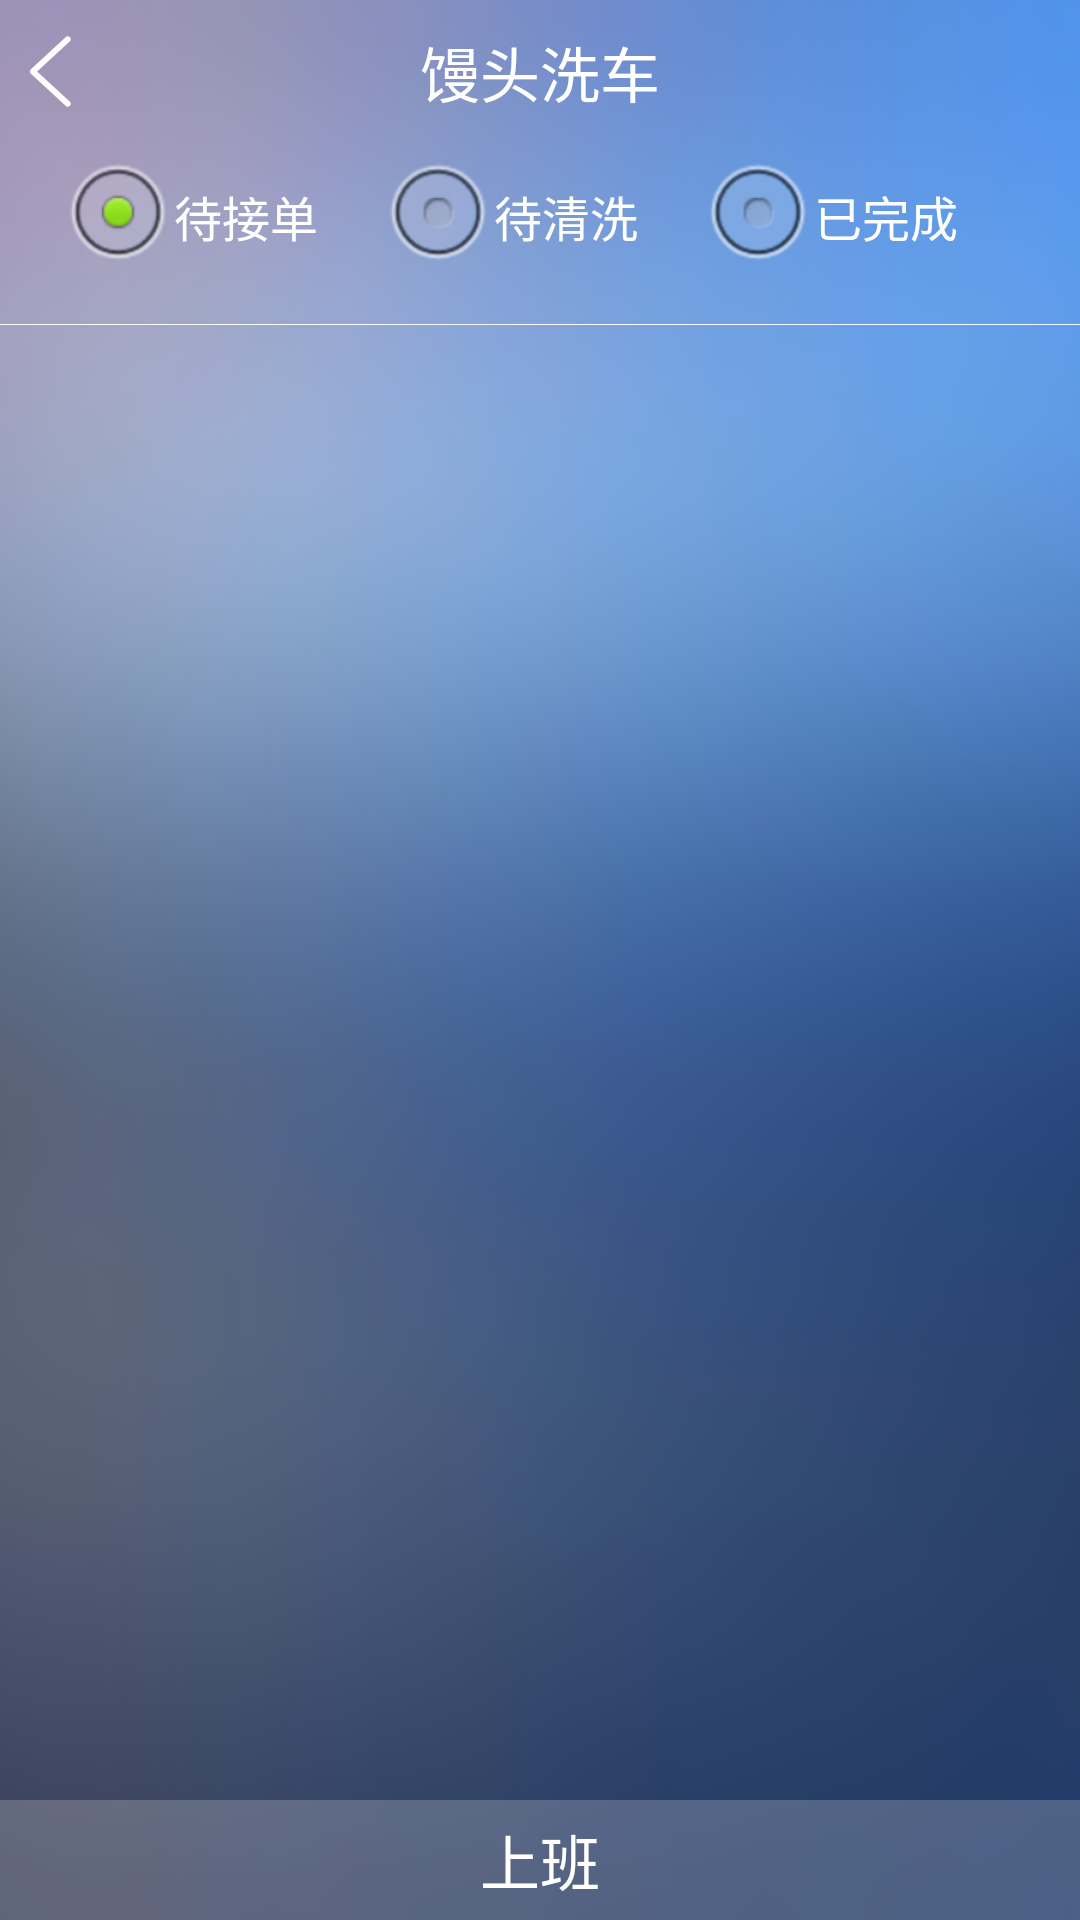

Screen size 1080x1920. Icon name, then its box in pixels as [x1, y1, x2, y2]:
titlebar back: [30, 36, 71, 107]
